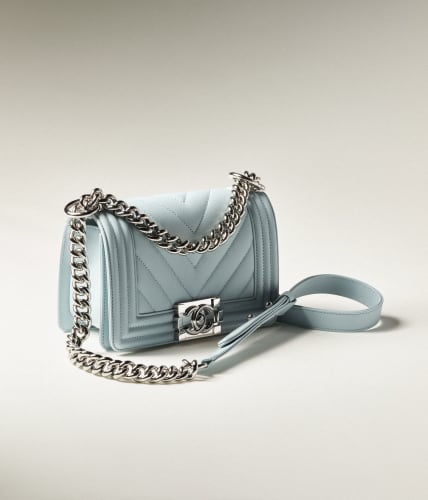channel: (47, 150, 312, 365), (106, 192, 213, 251), (172, 298, 239, 337)
